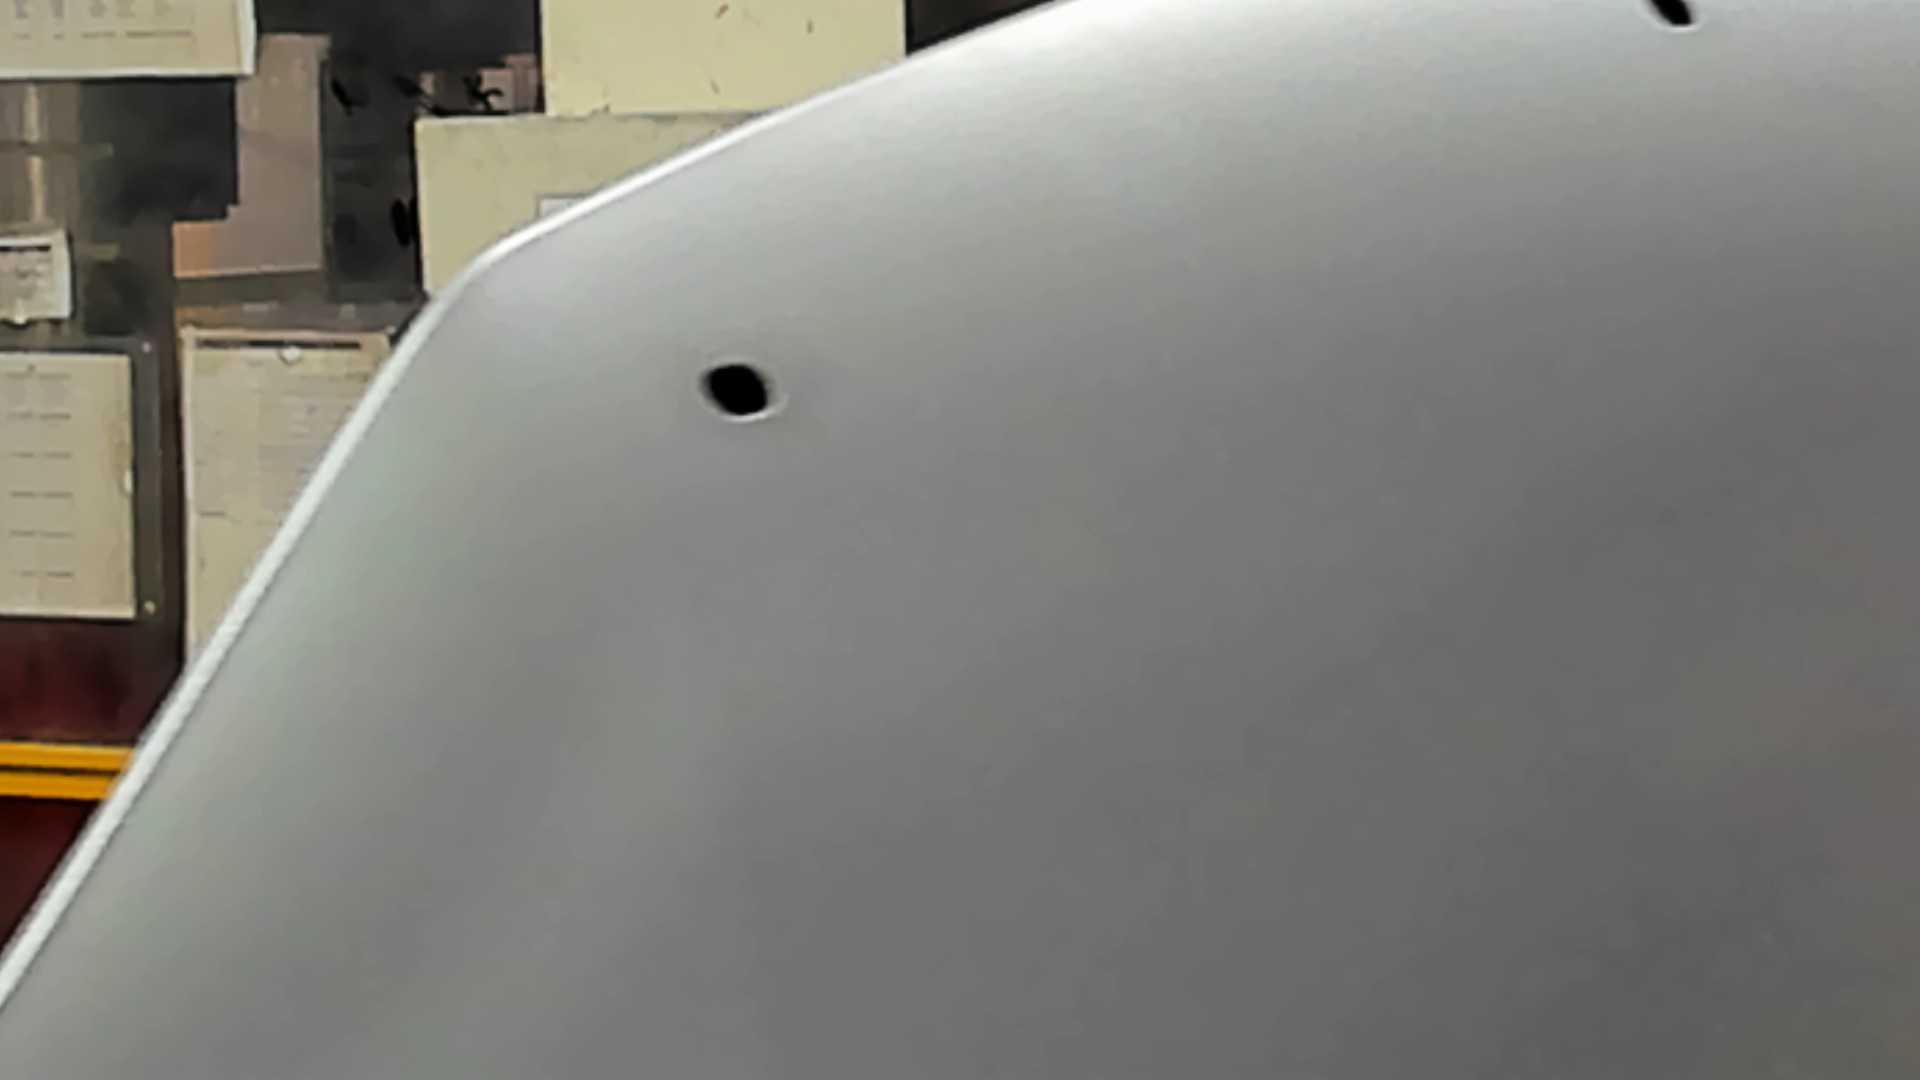amorfo: (688, 356, 789, 426), (1644, 1, 1705, 41)
capo: (945, 94, 1920, 1080)
